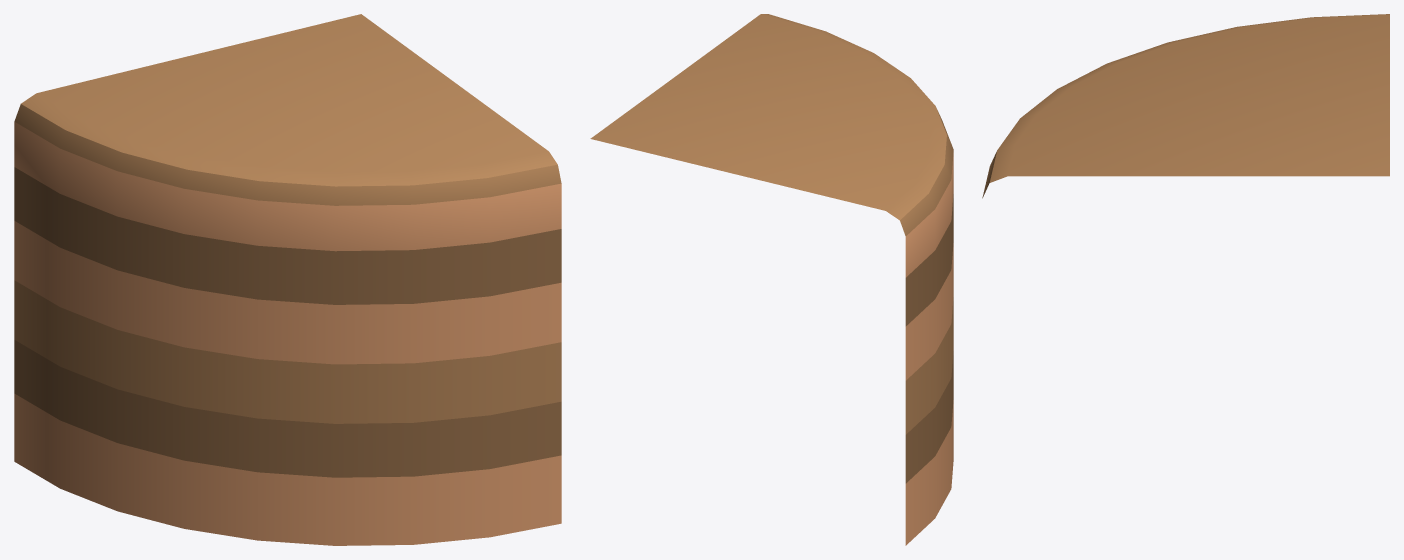
The model's file is platform_dirt_corner_round_tall.gltf.
3 renders of one model, left to right at view 1: azimuth 30°, elevation 25°; view 2: azimuth 150°, elevation 25°; view 3: azimuth 270°, elevation 25°, orthographic. The views are drawn at different scales.
Visible parts, largest first — view 1: Cube_Dirt_Corner_Round_Tall; view 2: Cube_Dirt_Corner_Round_Tall; view 3: Cube_Dirt_Corner_Round_Tall.
Boxes of the visible parts, x1,y1,x2,y2 form: Cube_Dirt_Corner_Round_Tall: (14, 14, 561, 545); Cube_Dirt_Corner_Round_Tall: (590, 14, 953, 545); Cube_Dirt_Corner_Round_Tall: (982, 14, 1389, 198).
Size of the model in its own units: 2 by 2 by 2.
